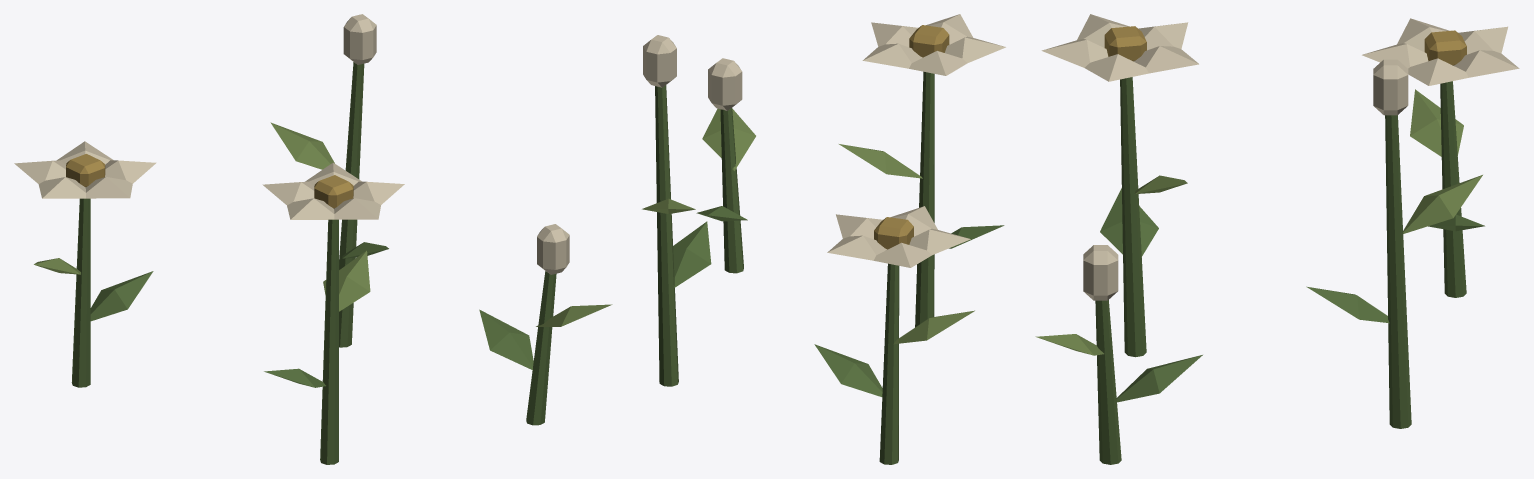
File: flowers_1_spring.glb
3 renders of one model, left to right at view 1: azimuth 30°, elevation 25°; view 2: azimuth 150°, elevation 25°; view 3: azimuth 270°, elevation 25°, orthographic. The views are drawn at different scales.
Visible parts, largest first — view 1: flowers_1_spring; view 2: flowers_1_spring; view 3: flowers_1_spring.
Boxes of the visible parts, x1,y1,x2,y2 form: flowers_1_spring: (14,14,612,464); flowers_1_spring: (642,14,1005,464); flowers_1_spring: (1035,14,1519,464).
Size of the model in its own units: 1.08 by 0.815 by 0.9688.
